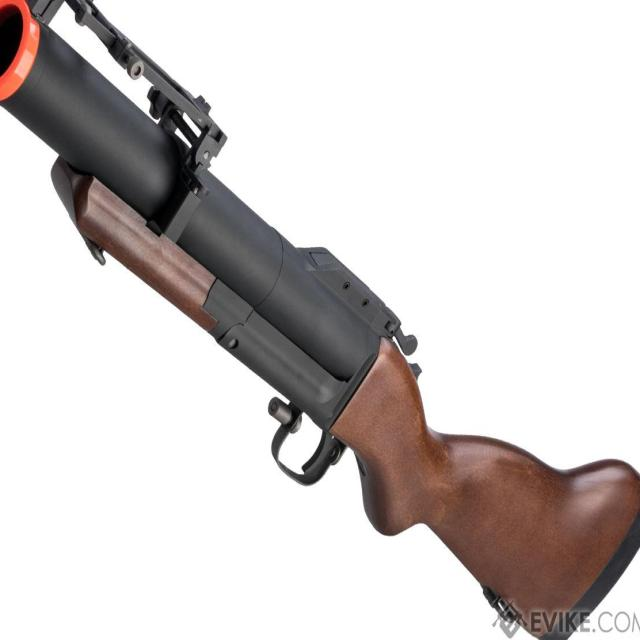Weapon: (0, 0, 640, 640), (0, 109, 534, 640), (96, 0, 640, 472), (572, 549, 640, 640)
